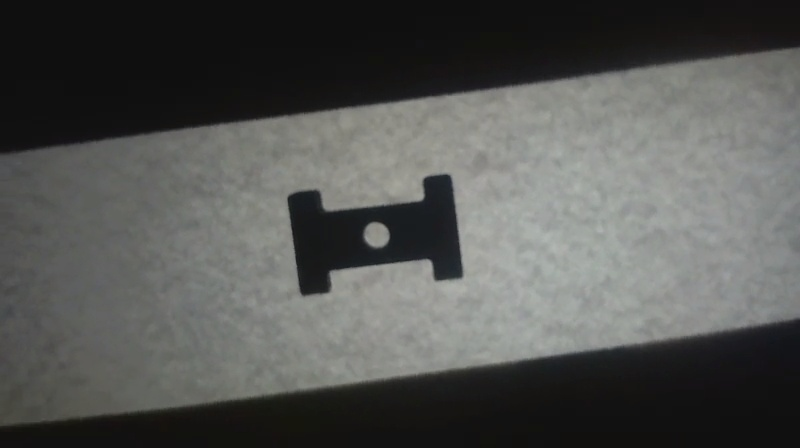O002: (284, 171, 468, 298)
